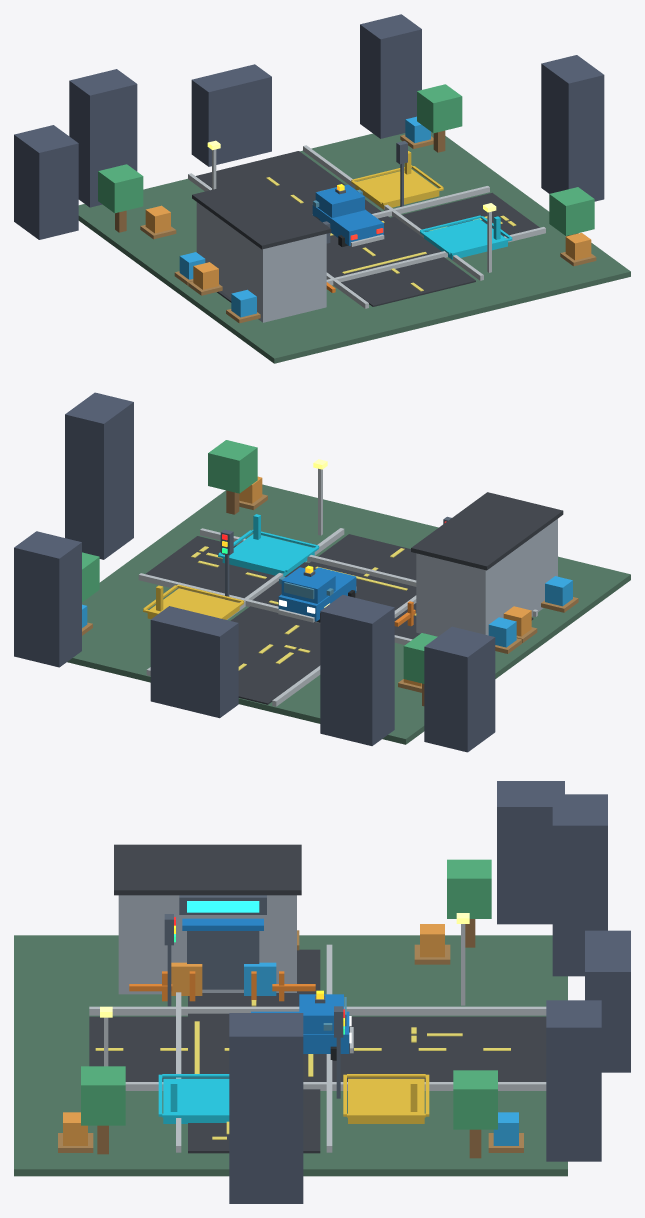
The model's file is cargame_native_slice_v1.glb.
3 renders of one model, top to bottom at view 1: azimuth 30°, elevation 25°; view 2: azimuth 150°, elevation 25°; view 3: azimuth 270°, elevation 25°, orthographic. The views are drawn at different scales.
Visible parts, largest first — view 1: ground.main, environment.warehouse, environment.skyline.4, road.main, environment.skyline.2, environment.skyline.1, environment.skyline.3, environment.skyline.0, road.cross, environment.warehouse.roof, environment.tree.0.crown, environment.tree.1.crown (+14 smaller); view 2: ground.main, environment.skyline.1, environment.skyline.4, environment.warehouse, road.main, environment.skyline.2, environment.skyline.3, environment.skyline.0, environment.warehouse.roof, road.cross, environment.tree.1.crown, delivery.electronics (+12 smaller); view 3: ground.main, road.main, environment.skyline.4, environment.warehouse.roof, environment.skyline.1, environment.skyline.3, environment.warehouse, environment.skyline.0, road.cross, environment.skyline.2, road.curb.west, environment.warehouse.door (+18 smaller).
Boxes of the visible parts, x1,y1,x2,y2 form: ground.main: (78,132,630,363); environment.warehouse: (196,202,326,322); environment.skyline.4: (541,55,604,201); road.main: (196,151,475,306); environment.skyline.2: (191,64,271,166); environment.skyline.1: (69,69,137,207); environment.skyline.3: (360,14,421,138); environment.skyline.0: (14,125,78,239); road.cross: (217,192,539,302); environment.warehouse.roof: (192,178,331,249); environment.tree.0.crown: (98,164,143,213); environment.tree.1.crown: (549,187,594,235); ground.main: (67,484,630,744); environment.skyline.1: (320,595,394,745); environment.skyline.4: (65,392,133,559); environment.warehouse: (416,519,557,636); road.main: (230,534,416,704); environment.skyline.2: (150,606,238,718); environment.skyline.3: (14,531,81,667); environment.skyline.0: (424,626,495,752); environment.warehouse.roof: (411,492,563,570); road.cross: (145,536,533,639); environment.tree.1.crown: (208,440,257,493); delivery.electronics: (222,534,314,576); ground.main: (14,935,567,1176); road.main: (89,1016,546,1081); environment.skyline.4: (229,1013,303,1203); environment.warehouse.roof: (114,844,301,895); environment.skyline.1: (552,794,607,976); environment.skyline.3: (546,1000,601,1161); environment.warehouse: (118,895,296,994); environment.skyline.0: (497,781,564,924); road.cross: (188,949,320,1153); environment.skyline.2: (585,930,630,1072); road.curb.west: (89,1006,546,1015); environment.warehouse.door: (187,931,259,989).
Size of the model in its own units: 23.5 by 6.28 by 20.05.
